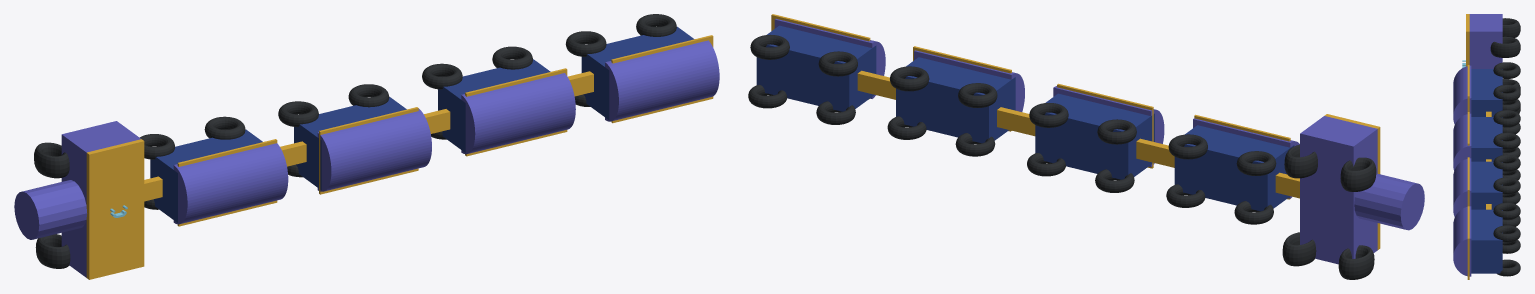
Rendered from tinker.obj.
3 views of the same model, side by side, from view 1: azimuth 30°, elevation 25°; view 2: azimuth 150°, elevation 25°; view 3: azimuth 270°, elevation 25° (orthographic). The views are drawn at different scales.
Visible parts, largest first — view 1: group_0_6447551, group_0_14789940, group_0_3032716, group_0_2829873; view 2: group_0_3032716, group_0_2829873, group_0_6447551, group_0_14789940; view 3: group_0_3032716, group_0_2829873, group_0_6447551, group_0_14789940.
Part boxes in pixels (x1=…): group_0_6447551: x1=14, y1=40, x2=719, y2=277; group_0_14789940: x1=86, y1=35, x2=713, y2=279; group_0_3032716: x1=150, y1=26, x2=694, y2=222; group_0_2829873: x1=34, y1=14, x2=676, y2=268; group_0_3032716: x1=756, y1=25, x2=1294, y2=211; group_0_2829873: x1=748, y1=34, x2=1376, y2=279; group_0_6447551: x1=774, y1=18, x2=1424, y2=264; group_0_14789940: x1=771, y1=14, x2=1380, y2=249; group_0_3032716: x1=1471, y1=69, x2=1502, y2=273; group_0_2829873: x1=1490, y1=18, x2=1520, y2=276; group_0_6447551: x1=1453, y1=14, x2=1502, y2=276; group_0_14789940: x1=1466, y1=14, x2=1491, y2=279.
Size of the model in its own units: 281 by 51 by 37.
